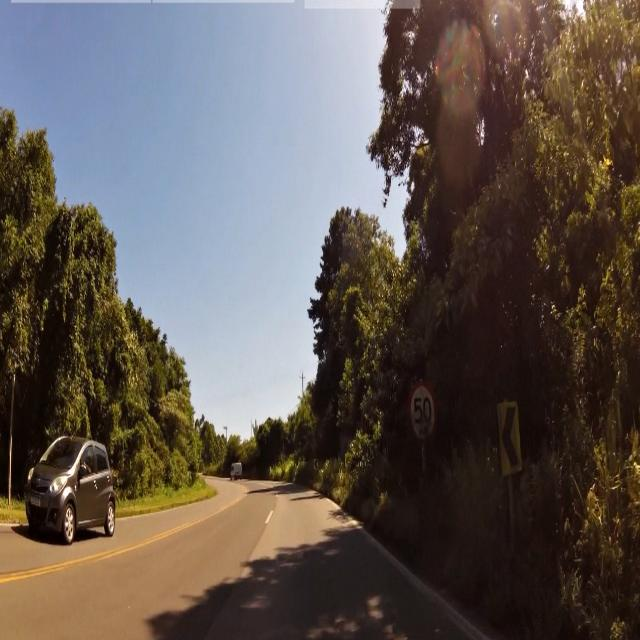Del: (495, 397, 525, 473)
R-19: (410, 379, 440, 441)
